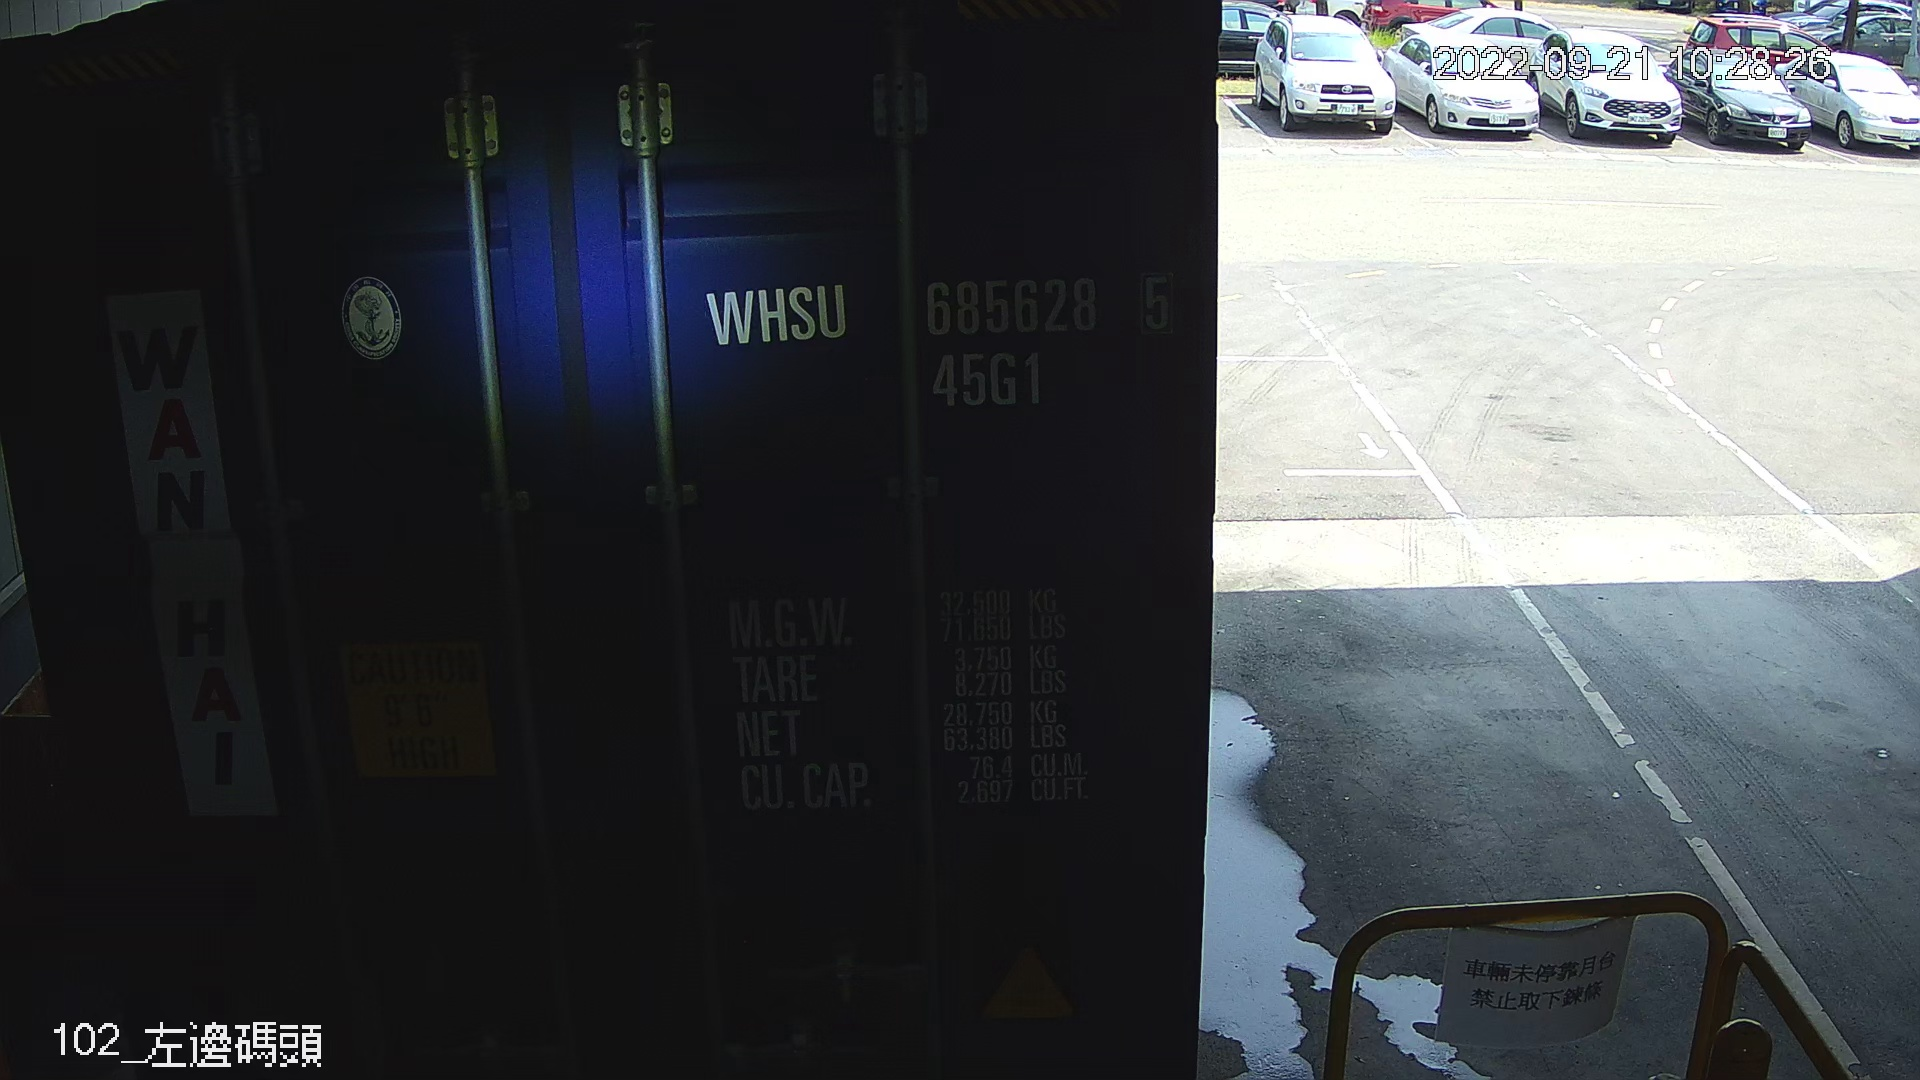container: (679, 258, 1197, 422)
